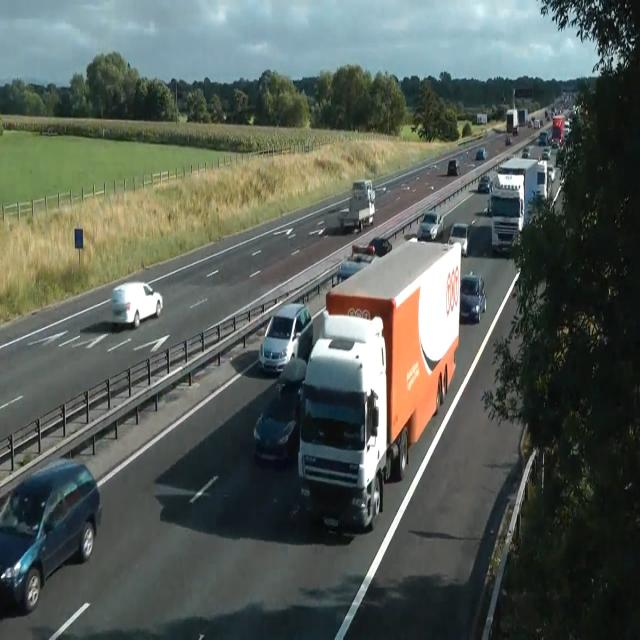bus: (253, 392, 299, 465), (111, 281, 163, 329), (459, 271, 487, 324), (275, 357, 307, 394), (337, 252, 372, 284), (352, 236, 392, 258), (416, 211, 444, 241), (448, 221, 470, 257), (353, 180, 375, 202), (477, 174, 491, 193), (447, 159, 460, 175), (475, 147, 487, 160), (547, 164, 555, 182), (541, 146, 551, 160), (485, 197, 492, 215), (539, 131, 547, 145), (534, 118, 542, 129), (522, 147, 530, 158), (504, 136, 512, 145), (512, 124, 518, 134)
jeep: (0, 457, 101, 613), (258, 301, 314, 375)
minibus: (297, 238, 461, 532), (489, 156, 553, 255), (337, 179, 375, 233), (506, 108, 528, 134), (552, 116, 564, 146), (518, 108, 528, 126), (477, 113, 487, 124)
